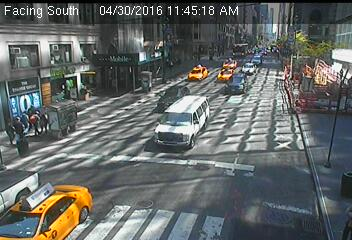neg: (185, 120, 201, 141), (107, 165, 123, 186), (222, 109, 237, 128), (111, 127, 126, 146), (146, 54, 160, 72), (193, 76, 205, 92), (255, 66, 267, 82), (125, 83, 137, 99), (230, 68, 241, 83), (291, 71, 302, 85), (154, 175, 164, 188)
pos: (13, 107, 31, 131), (8, 114, 24, 135), (1, 119, 16, 141), (27, 109, 42, 129), (35, 112, 49, 131), (26, 99, 36, 112)
